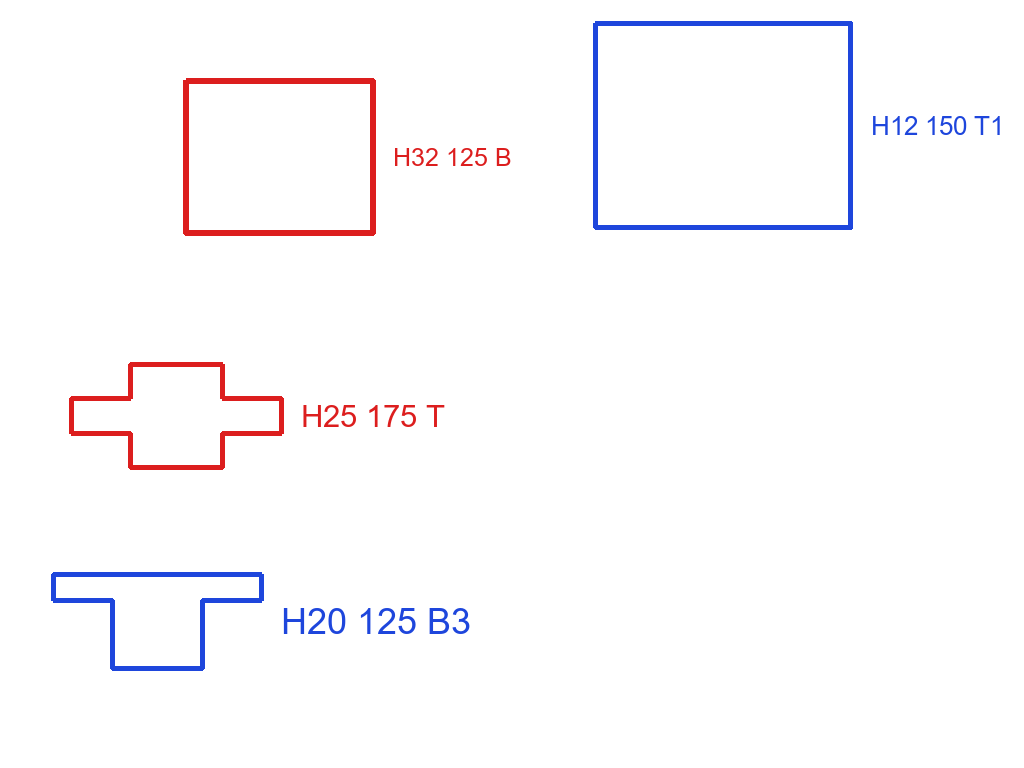shape: (591, 19, 855, 232), (182, 76, 378, 239), (67, 360, 286, 472), (49, 570, 266, 673)
text: (279, 606, 473, 636), (299, 403, 447, 429), (869, 114, 1006, 137), (391, 146, 514, 168)
